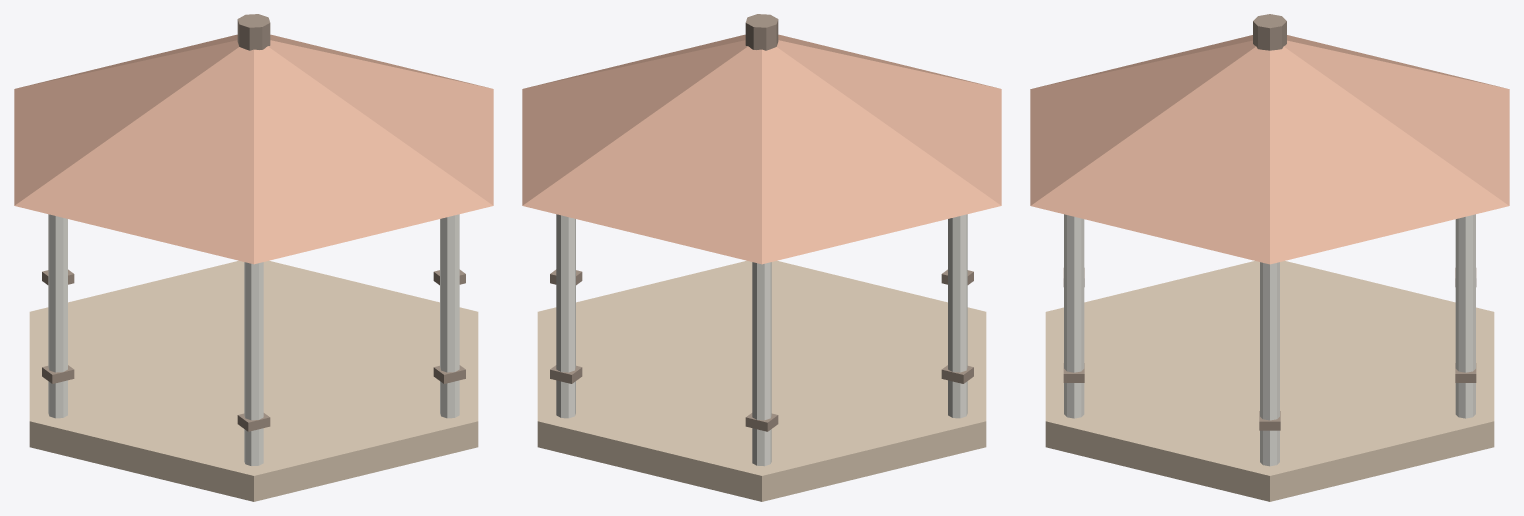
Rendered from Gazebo_Park.glb.
The picture shows the model from 3 angles, left to right: view 1: azimuth 30°, elevation 25°; view 2: azimuth 150°, elevation 25°; view 3: azimuth 270°, elevation 25°; orthographic projection.
Visible parts, largest first — view 1: 013_roof_013, 000_gazebo_deck_000, 005_post_005, 007_post_007, 003_post_003, 014_cylinder_014; view 2: 013_roof_013, 000_gazebo_deck_000, 009_post_009, 007_post_007, 011_post_011, 014_cylinder_014; view 3: 013_roof_013, 000_gazebo_deck_000, 003_post_003, 011_post_011, 001_post_001, 014_cylinder_014.
Boxes of the visible parts, x1,y1,x2,y2 form: 013_roof_013: (14,34,493,264); 000_gazebo_deck_000: (29,261,478,501); 005_post_005: (244,262,263,466); 007_post_007: (48,214,67,418); 003_post_003: (440,214,459,418); 014_cylinder_014: (237,14,270,50); 013_roof_013: (522,34,1001,264); 000_gazebo_deck_000: (537,261,986,501); 009_post_009: (752,262,771,466); 007_post_007: (948,214,967,418); 011_post_011: (556,214,575,418); 014_cylinder_014: (745,14,778,50); 013_roof_013: (1030,35,1509,264); 000_gazebo_deck_000: (1045,261,1494,501); 003_post_003: (1064,214,1084,418); 011_post_011: (1455,214,1475,418); 001_post_001: (1260,262,1279,466); 014_cylinder_014: (1253,14,1286,50).
Bounding box in the file's own units: 6.56 × 4.86 × 5.68.
